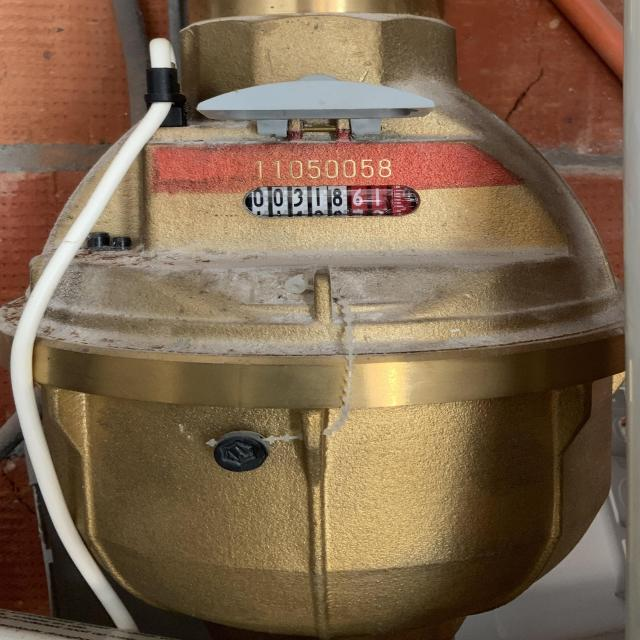gaz_meter: (136, 130, 520, 256)
indication: (241, 185, 402, 219)
